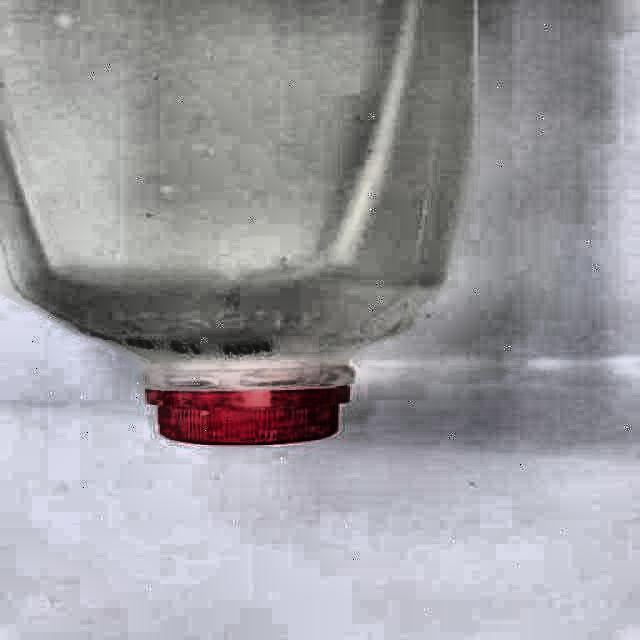plastic: (0, 0, 474, 444)
